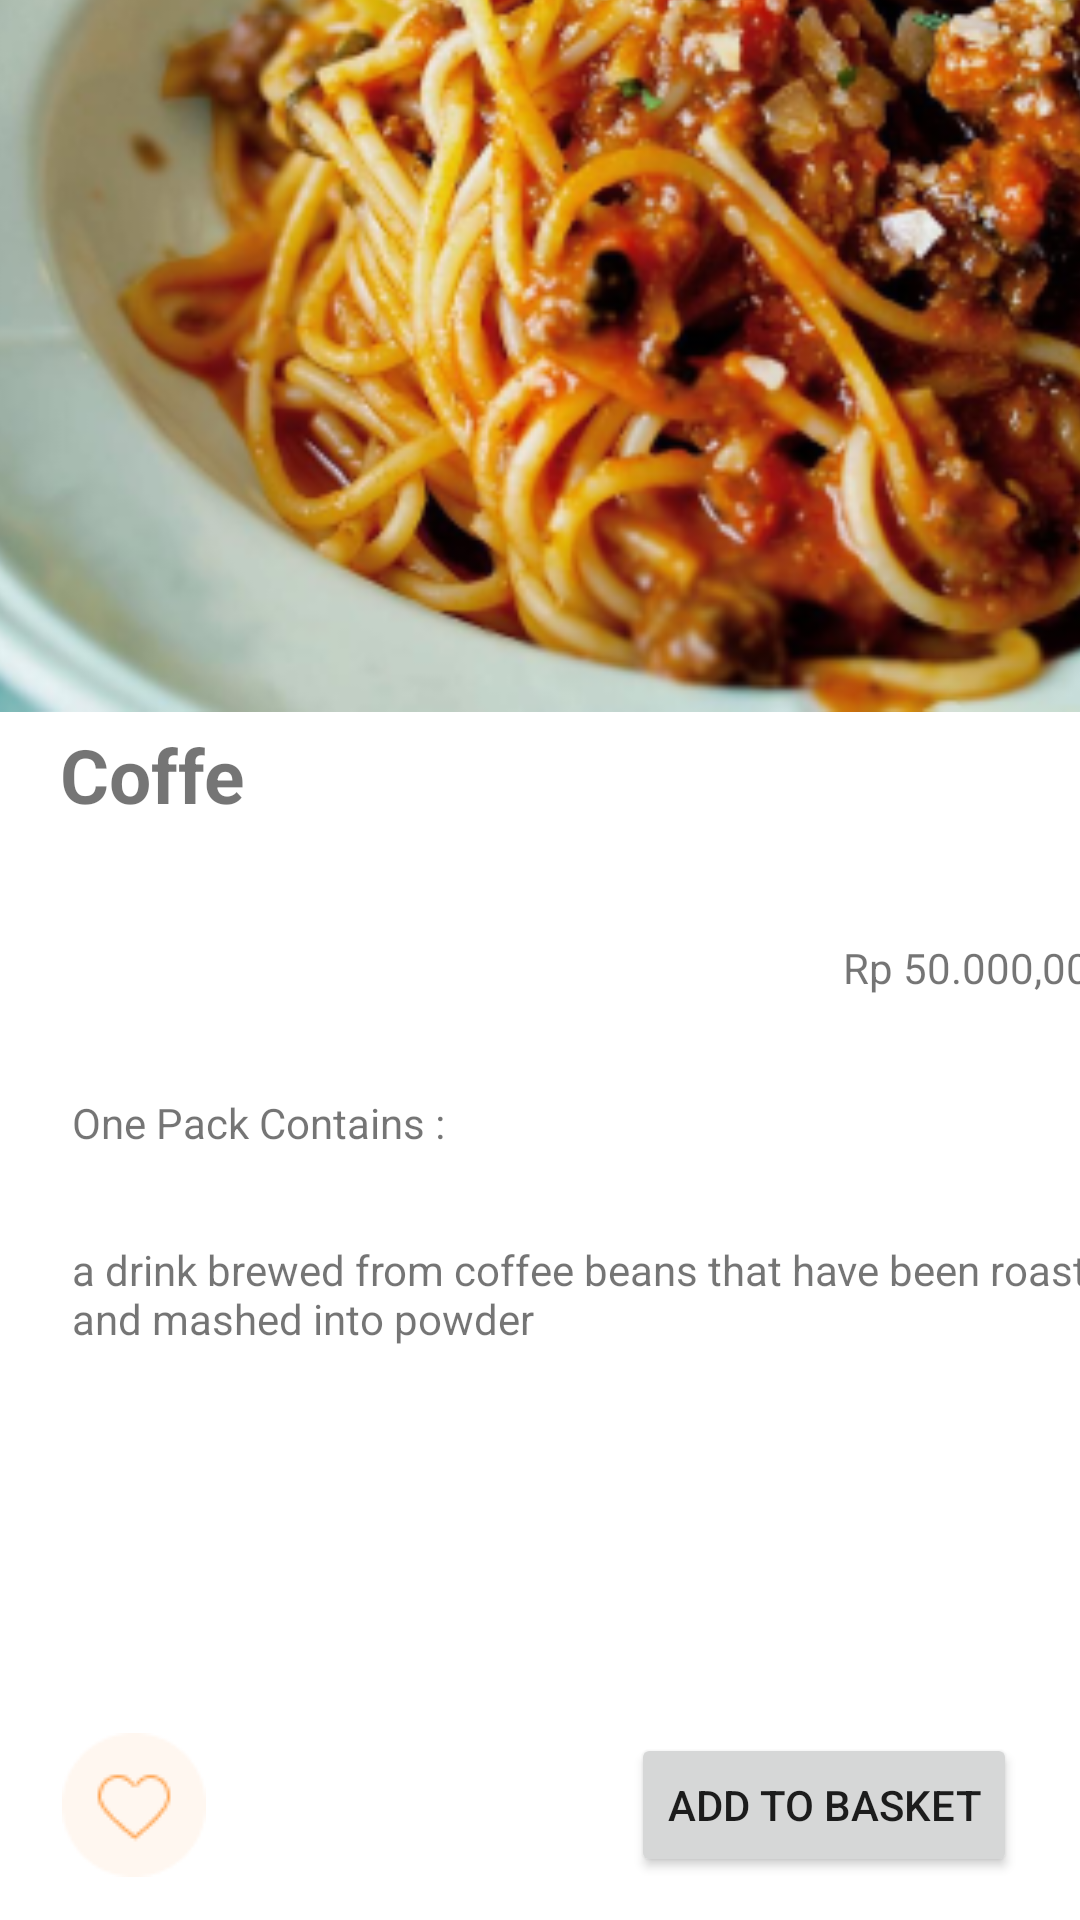

Icons on this 1080 × 1920 Android screen, each with its box as (x1, y1, x2, y2):
love: (62, 1733, 206, 1877)
